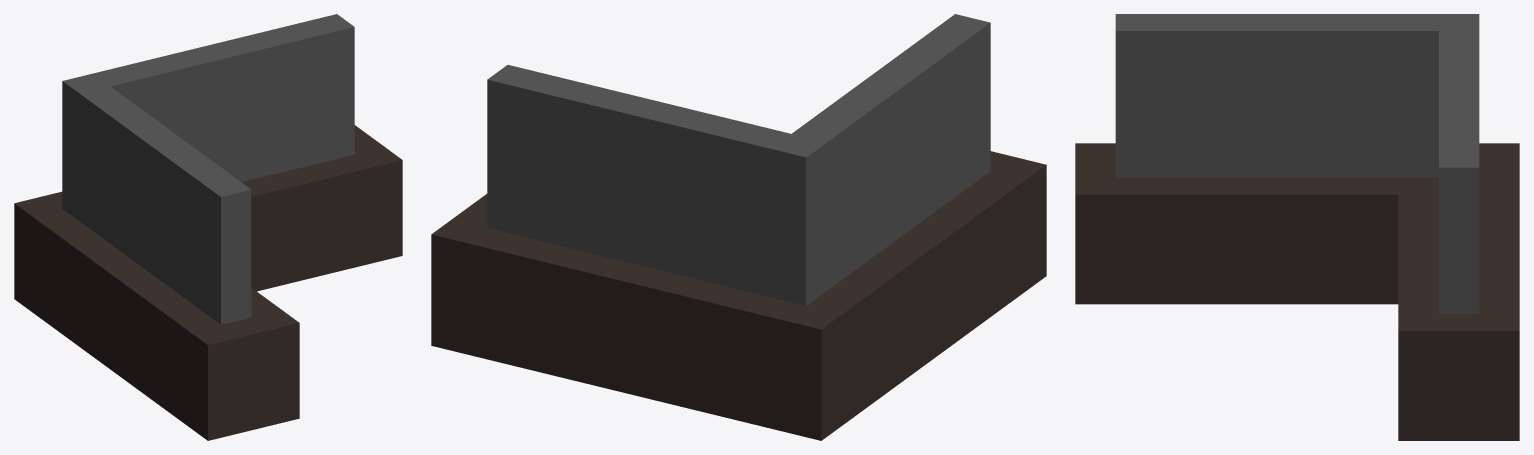
The model's file is cam.obj.
3 views of the same model, side by side, from view 1: azimuth 30°, elevation 25°; view 2: azimuth 150°, elevation 25°; view 3: azimuth 270°, elevation 25° (orthographic). The views are drawn at different scales.
Bounding box in the file's own units: 1.1 × 0.7 × 1.1.
Materials: 1 (1 with a texture image).
